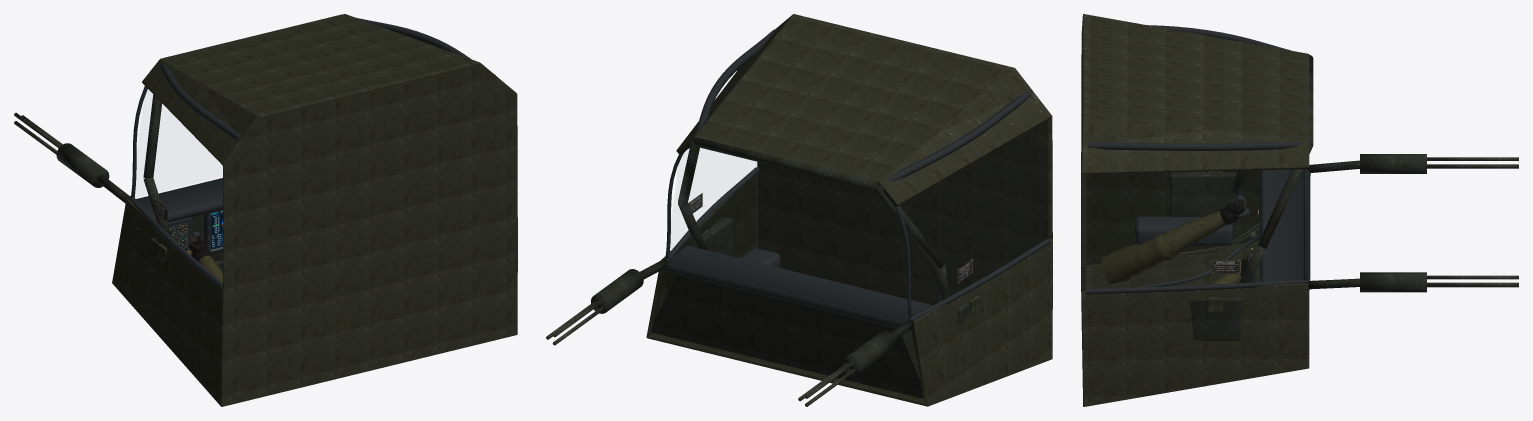
File: helicopter_view.glb
3 renders of one model, left to right at view 1: azimuth 30°, elevation 25°; view 2: azimuth 150°, elevation 25°; view 3: azimuth 270°, elevation 25°, orthographic. The views are drawn at different scales.
Parts seen in each view (by area): view 1: Olive cabin interior panels, Matte rubber cockpit trim, Weathered painted cockpit structure, Worn satin alloy hardware, DISPLAY_FLIGHT; view 2: Olive cabin interior panels, Weathered painted cockpit structure, Matte rubber cockpit trim, Worn satin alloy hardware; view 3: Olive cabin interior panels, Matte rubber cockpit trim, Weathered painted cockpit structure, Woven flight suit sleeve, Worn satin alloy hardware, Soft textured leather gloves, Maintenance placards and safety decals.
Part boxes in pixels (bbox=[...]): Olive cabin interior panels: bbox=[112, 14, 517, 406]; Matte rubber cockpit trim: bbox=[129, 18, 495, 288]; Weathered painted cockpit structure: bbox=[56, 14, 342, 269]; Worn satin alloy hardware: bbox=[14, 112, 210, 252]; DISPLAY_FLIGHT: bbox=[210, 210, 222, 251]; Olive cabin interior panels: bbox=[646, 14, 1052, 406]; Weathered painted cockpit structure: bbox=[591, 137, 969, 398]; Matte rubber cockpit trim: bbox=[663, 29, 1050, 330]; Worn satin alloy hardware: bbox=[546, 217, 942, 406]; Olive cabin interior panels: bbox=[1081, 14, 1310, 406]; Matte rubber cockpit trim: bbox=[1086, 25, 1310, 294]; Weathered painted cockpit structure: bbox=[1170, 55, 1426, 340]; Woven flight suit sleeve: bbox=[1100, 211, 1241, 284]; Worn satin alloy hardware: bbox=[1167, 157, 1518, 301]; Soft textured leather gloves: bbox=[1220, 203, 1248, 277]; Maintenance placards and safety decals: bbox=[1211, 260, 1240, 273].
Size of the model in its own units: 2.12 by 1.93 by 2.81.
Materials: 15 (10 with a texture image).
